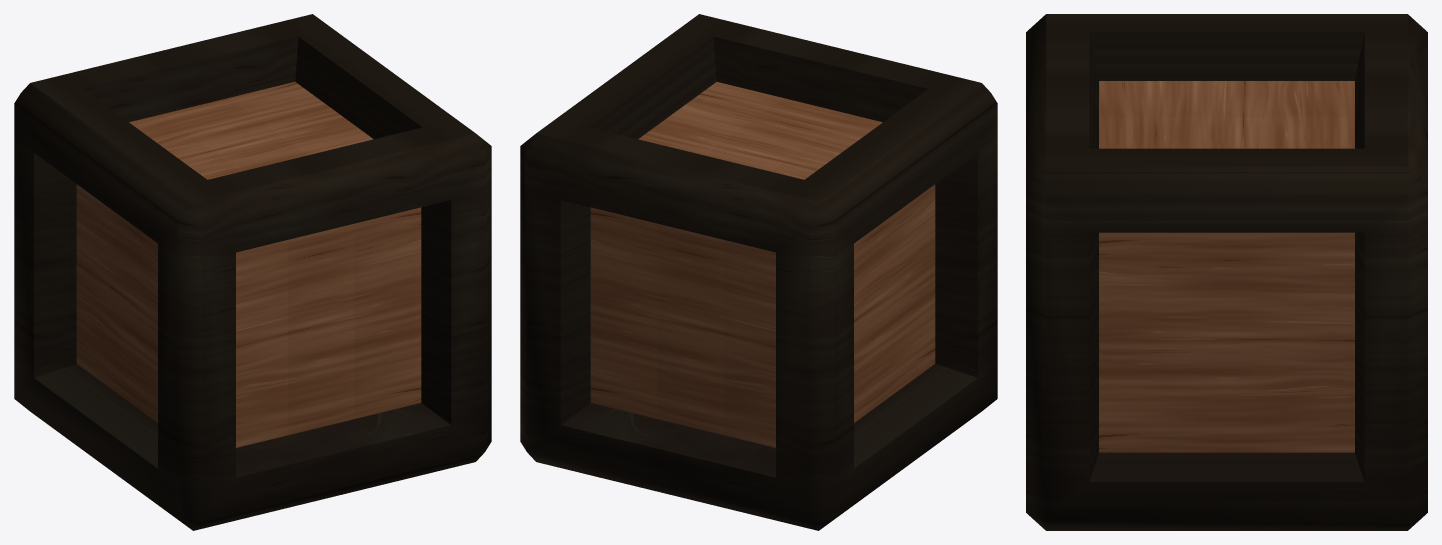
File: box_large.gltf
3 renders of one model, left to right at view 1: azimuth 30°, elevation 25°; view 2: azimuth 150°, elevation 25°; view 3: azimuth 270°, elevation 25°, orthographic. The views are drawn at different scales.
Visible parts, largest first — view 1: box_large; view 2: box_large; view 3: box_large.
Boxes of the visible parts, x1,y1,x2,y2 form: box_large: [14, 14, 491, 530]; box_large: [520, 14, 997, 530]; box_large: [1026, 14, 1427, 530].
Bounding box in the file's own units: 1.5 × 1.5 × 1.5.
2 materials, 2 textured.
